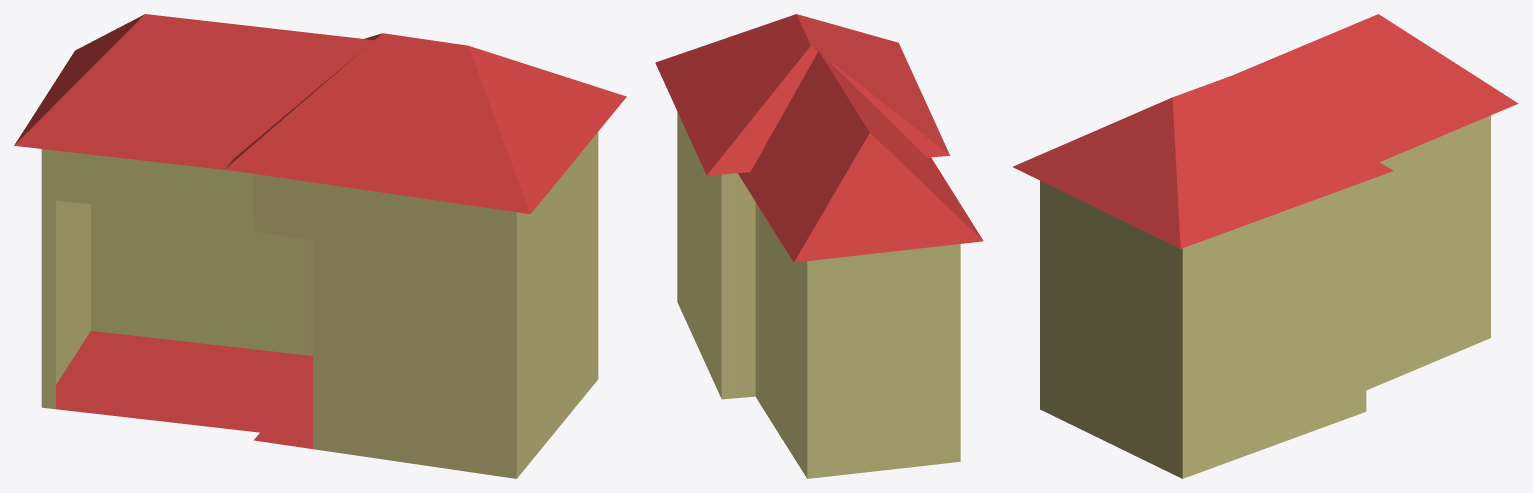
3 views of the same model, side by side, from view 1: azimuth 30°, elevation 25°; view 2: azimuth 150°, elevation 25°; view 3: azimuth 270°, elevation 25° (orthographic). The views are drawn at different scales.
Parts seen in each view (by area): view 1: group_9, group_5, group_7, group_3, group_6, group_8; view 2: group_5, group_3, group_7, group_9, group_4, group_8; view 3: group_9, group_7, group_5, group_3, group_4, group_8.
Part boxes in pixels (x1=…): group_9: x1=293, y1=132, x2=598, y2=478; group_5: x1=41, y1=149, x2=312, y2=409; group_7: x1=225, y1=33, x2=626, y2=214; group_3: x1=14, y1=14, x2=385, y2=170; group_6: x1=56, y1=331, x2=312, y2=448; group_8: x1=226, y1=88, x2=623, y2=212; group_5: x1=737, y1=173, x2=960, y2=478; group_3: x1=740, y1=47, x2=983, y2=262; group_7: x1=655, y1=14, x2=950, y2=175; group_9: x1=677, y1=88, x2=856, y2=399; group_4: x1=738, y1=158, x2=981, y2=261; group_8: x1=656, y1=38, x2=946, y2=175; group_9: x1=1040, y1=180, x2=1366, y2=478; group_7: x1=1013, y1=75, x2=1393, y2=248; group_5: x1=1366, y1=115, x2=1490, y2=390; group_3: x1=1232, y1=14, x2=1518, y2=161; group_4: x1=1353, y1=87, x2=1517, y2=161; group_8: x1=1013, y1=153, x2=1390, y2=248.
Size of the model in its own units: 19.27 by 19.3 by 13.62.
